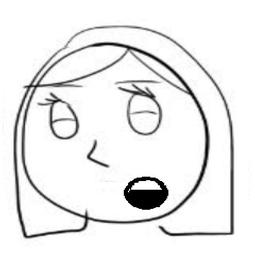eye: (117, 87, 165, 141), (37, 92, 79, 141)
eyebrow: (108, 76, 163, 86), (50, 82, 84, 88)
open_mouth: (117, 171, 171, 214)
pointy_nose: (82, 136, 110, 170)
